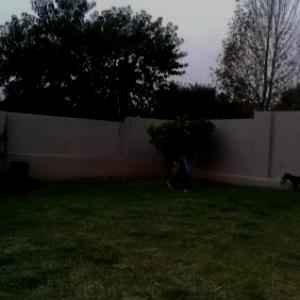follow: (172, 112, 196, 194)
